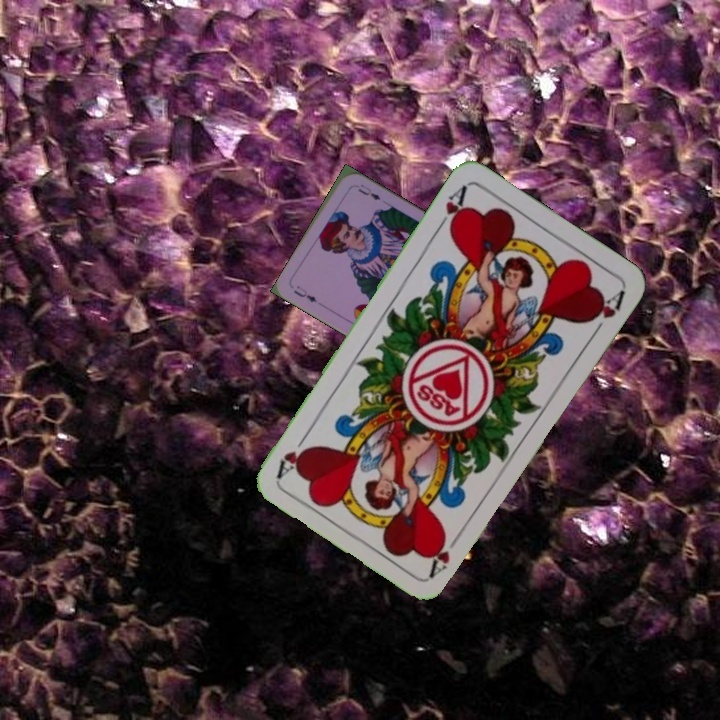EU: (289, 281, 319, 305)
HA: (425, 526, 466, 579), (432, 181, 470, 235)
